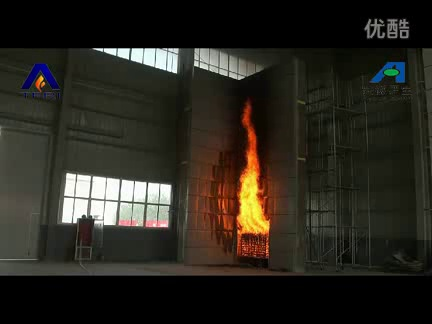fire: (235, 106, 271, 236)
